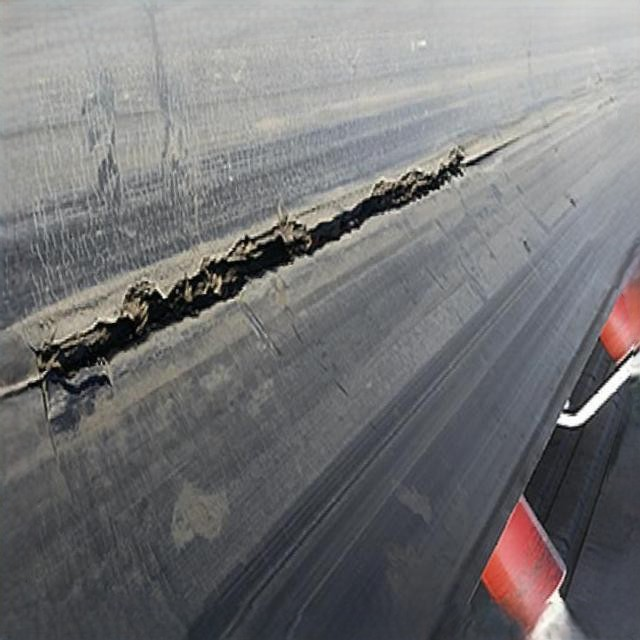Tear: (7, 132, 521, 408)
